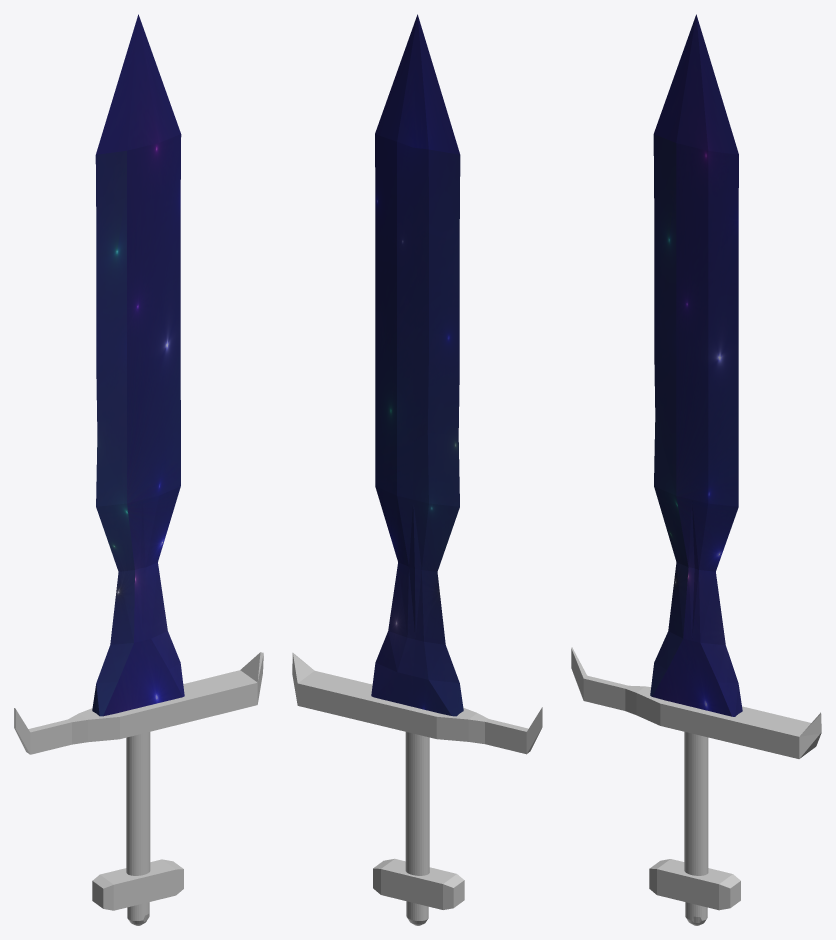
Rendered from BusterSword.obj.
The picture shows the model from 3 angles, left to right: view 1: azimuth 30°, elevation 25°; view 2: azimuth 150°, elevation 25°; view 3: azimuth 330°, elevation 25°; orthographic projection.
Visible parts, largest first — view 1: 立方体.002; view 2: 立方体.002; view 3: 立方体.002.
Part boxes in pixels (x1=…): 立方体.002: x1=14, y1=14, x2=263, y2=925; 立方体.002: x1=292, y1=14, x2=542, y2=925; 立方体.002: x1=571, y1=14, x2=821, y2=925.
Bounding box in the file's own units: 65.98 × 230 × 8.2.
